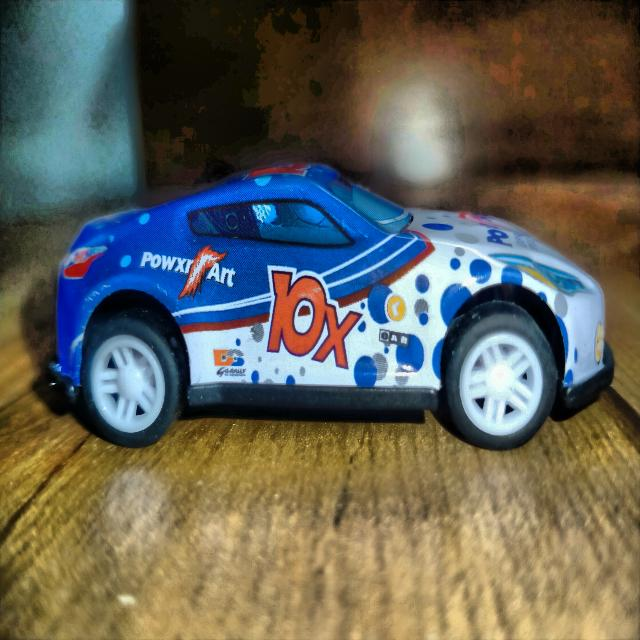Car: (51, 166, 614, 450)
